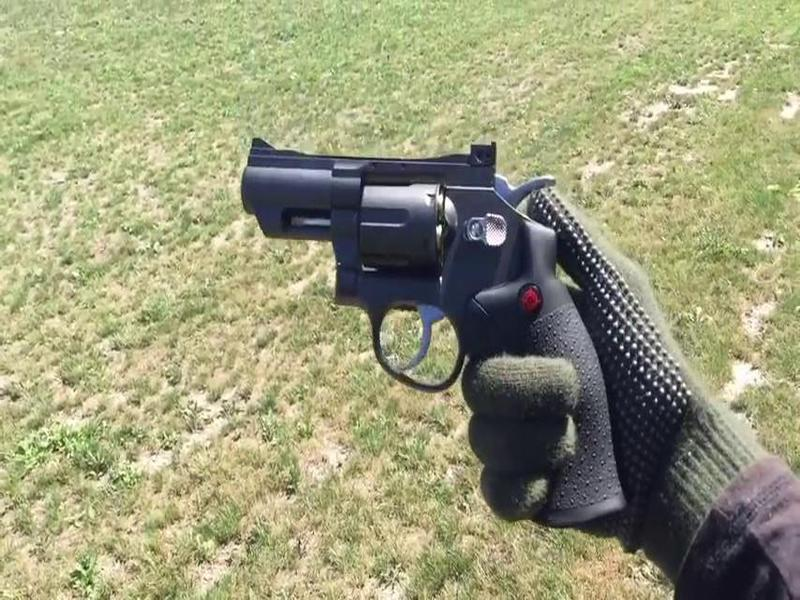Revolver: (213, 103, 648, 543)
